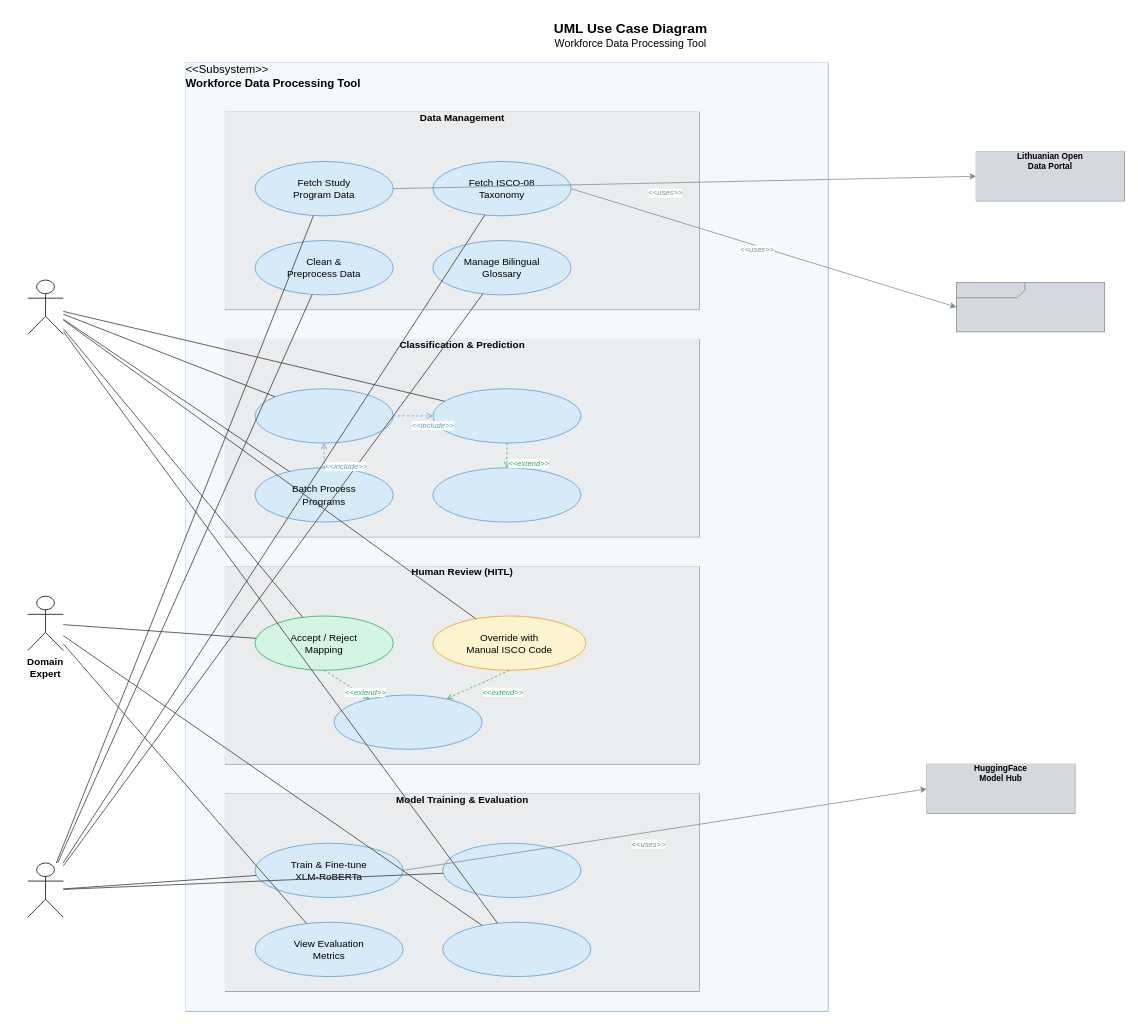
Image size: 1138x1024. Some labels were removed from this diagram. Each missing label, with the centre of its shape:
Deploy Trained Model: point 511,870
Export Final Report (CSV/PDF): point 516,949
ILO ISCO-08 Database: point 1030,307
Log Feedback for Retraining: point 407,721
Public Sector Analyst: point 45,306
Submit Study Program: point 323,415
System Administrator: point 45,889
View Attention Visualization: point 506,494
View Ranked ISCO Predictions: point 506,415
